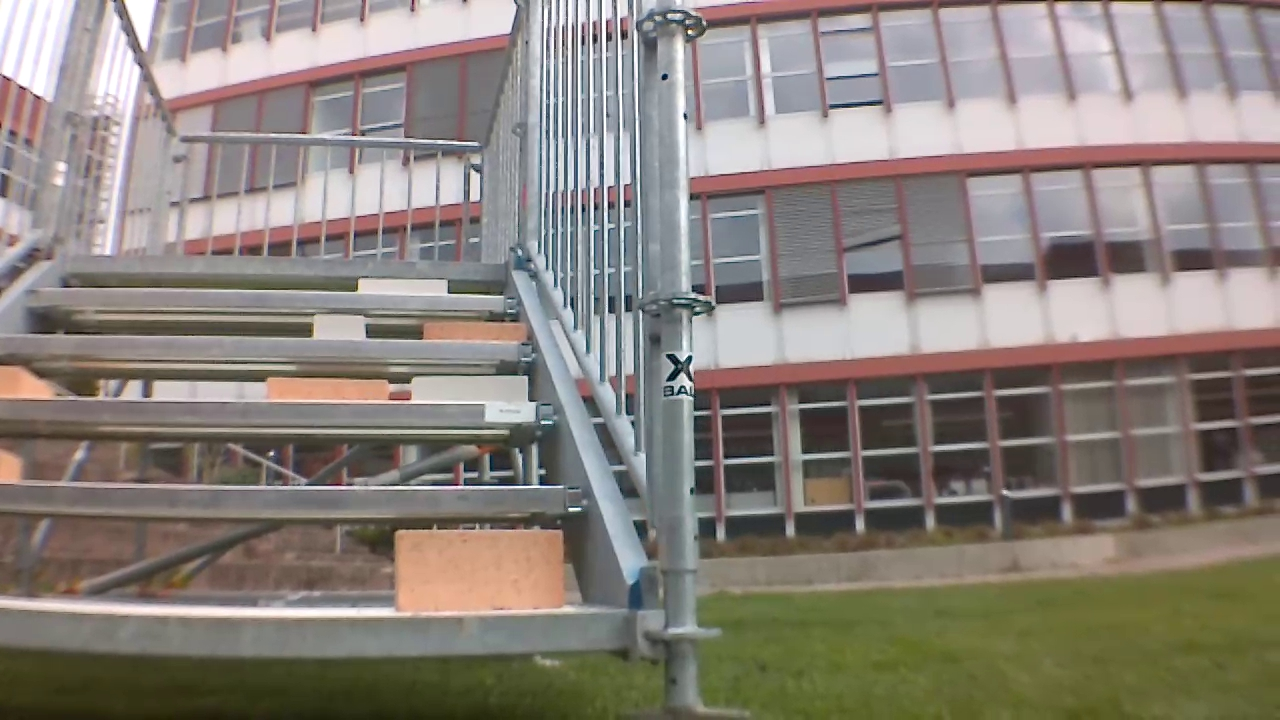brick: (386, 528, 562, 614), (405, 369, 537, 403), (418, 321, 529, 346), (270, 382, 389, 401), (353, 275, 450, 295), (309, 314, 364, 339)
edge: (0, 600, 639, 652), (0, 474, 601, 515), (12, 285, 528, 315), (0, 330, 537, 358), (0, 400, 560, 426), (40, 258, 508, 280)
stairs: (0, 0, 690, 705)
steps: (0, 253, 634, 657)
